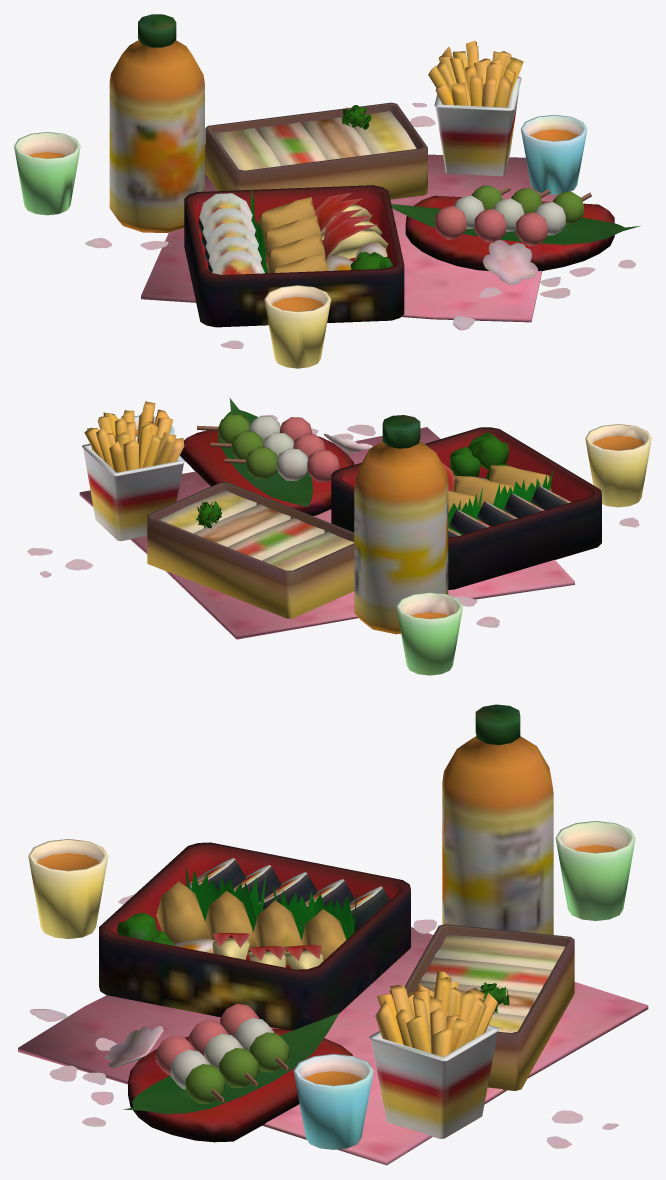
File: picnic-set.glb
3 renders of one model, top to bottom at view 1: azimuth 30°, elevation 25°; view 2: azimuth 150°, elevation 25°; view 3: azimuth 270°, elevation 25°, orthographic. The views are drawn at different scales.
Bounding box in the file's own units: 14.57 × 5.86 × 14.38.
Materials: 1 (1 with a texture image).
